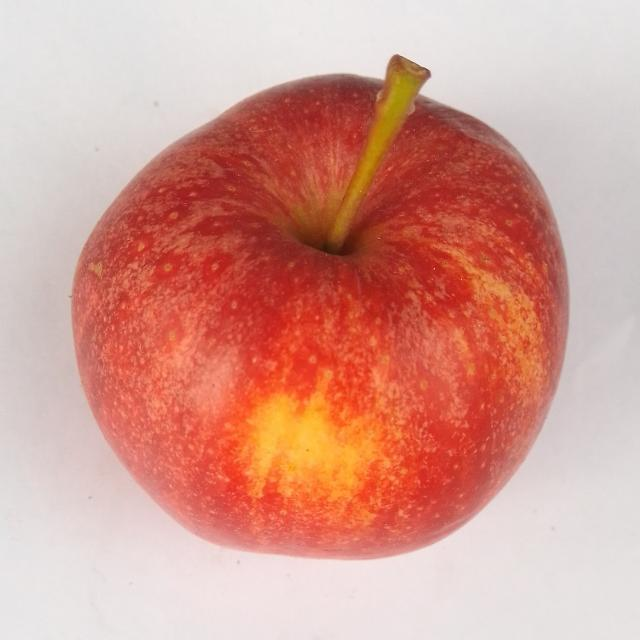Fresh Apple: (67, 58, 573, 562)
